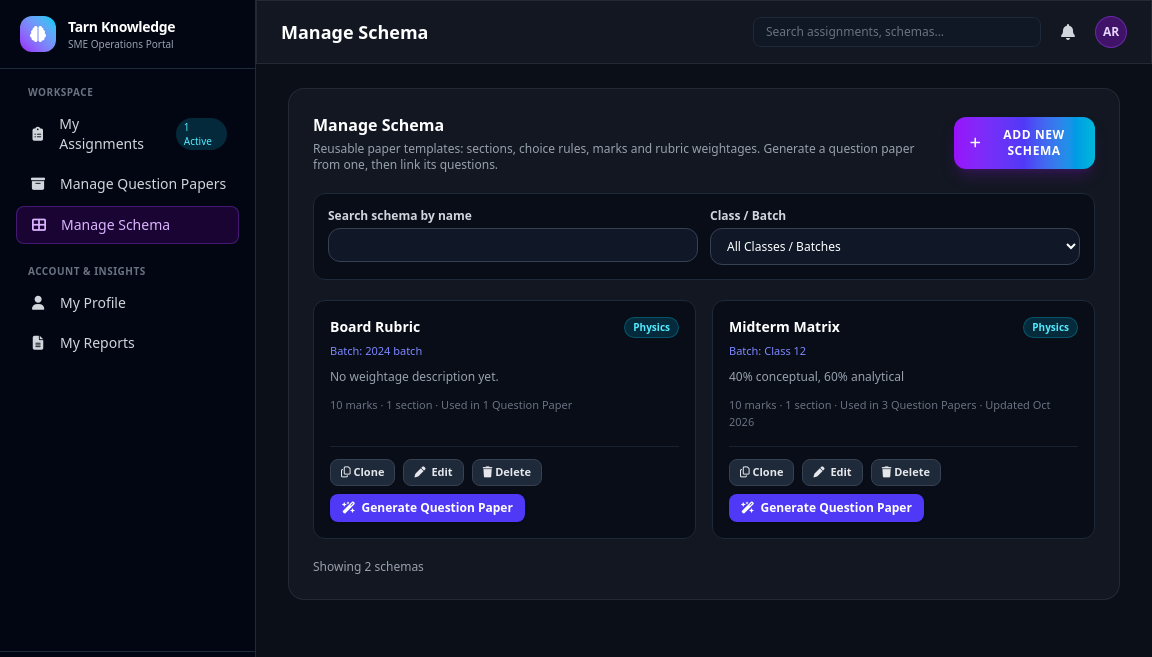
Test: Manage Schema › generates a question paper from a schema and opens it in the paper editor
This screenshot has width=1152, height=657.
What coordinates should you click on to do the following:
click the button with aria-label "Generate Question Paper from Midterm Matrix"
I would click on:
 (826, 508)
Its box is [729,494,924,522].
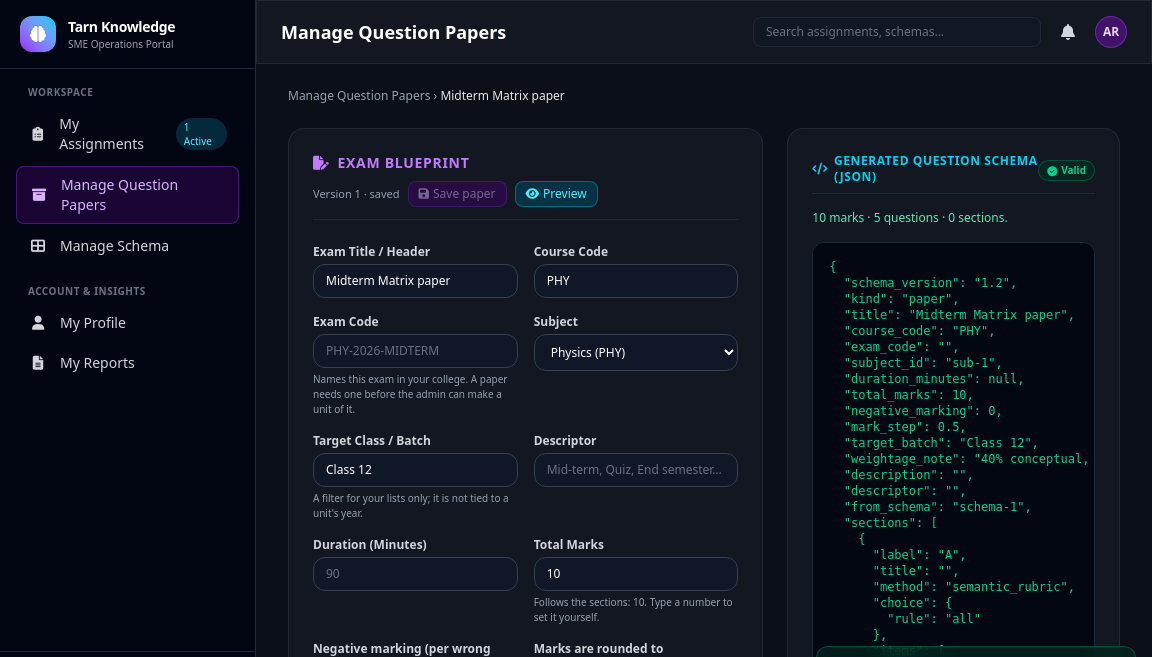
Expected: the heading "Exam Blueprint" is shown, [313,153,470,173]
Expected: the navigation bar named "Breadcrumb" shows "Manage Question Papers", [288,87,430,104]
Expected: the field labelled "Exam Title / Header" holds "Midterm Matrix paper", [313,264,518,298]
